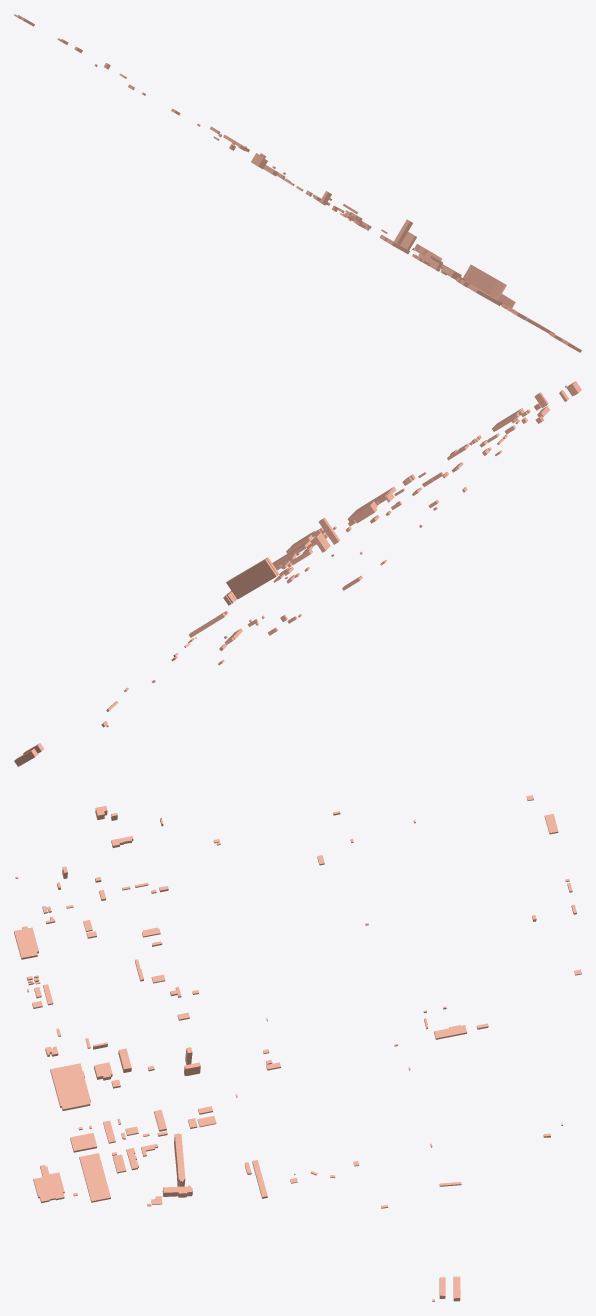
3 views of the same model, one above another, from view 1: azimuth 30°, elevation 25°; view 2: azimuth 150°, elevation 25°; view 3: azimuth 270°, elevation 25° (orthographic). The views are drawn at different scales.
Bounding box in the file's own units: 963 × 758 × 1208.
